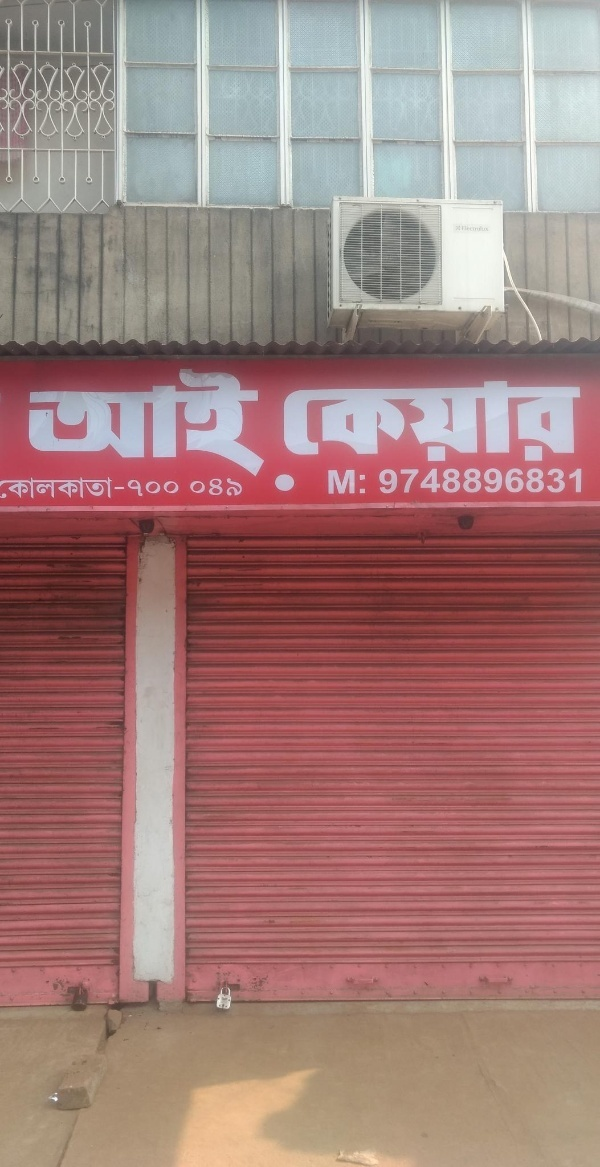text: (257, 359, 273, 481), (33, 359, 48, 481), (49, 359, 64, 481), (65, 359, 80, 481), (81, 359, 96, 481), (97, 359, 112, 481), (113, 359, 128, 481), (129, 359, 144, 481), (145, 359, 160, 481), (161, 359, 176, 481), (177, 359, 192, 481), (193, 359, 208, 481), (209, 359, 224, 481), (225, 359, 240, 481), (241, 359, 256, 481), (289, 374, 304, 464), (305, 374, 320, 464), (321, 374, 336, 464), (337, 374, 352, 464), (353, 374, 368, 464), (369, 374, 384, 464), (385, 374, 400, 464), (401, 374, 416, 464), (417, 374, 432, 464), (433, 374, 448, 464), (449, 374, 464, 464), (465, 374, 480, 464), (481, 374, 496, 464), (497, 374, 512, 464), (513, 374, 528, 464), (529, 374, 544, 464), (545, 374, 560, 464), (561, 374, 576, 464), (577, 374, 586, 464), (321, 467, 336, 498), (337, 467, 352, 498), (353, 467, 368, 498), (385, 468, 400, 498), (401, 468, 416, 498), (417, 468, 432, 498), (433, 468, 448, 498), (449, 468, 464, 498), (465, 468, 480, 498), (481, 468, 496, 498), (497, 468, 512, 498), (513, 468, 528, 498), (529, 468, 544, 498), (545, 468, 560, 498), (561, 468, 576, 498), (1, 476, 16, 501), (17, 476, 32, 501), (33, 476, 48, 501), (49, 476, 64, 501), (65, 476, 80, 501), (81, 476, 96, 501), (97, 476, 112, 501), (113, 476, 128, 501), (129, 476, 144, 501), (145, 476, 160, 501), (161, 476, 176, 501), (284, 374, 288, 464), (193, 476, 208, 497), (209, 476, 224, 497), (225, 476, 240, 497), (577, 468, 587, 498), (377, 468, 384, 498), (31, 359, 32, 481), (177, 476, 181, 501), (188, 476, 192, 497), (241, 476, 244, 497), (126, 476, 128, 501), (369, 467, 370, 498)
